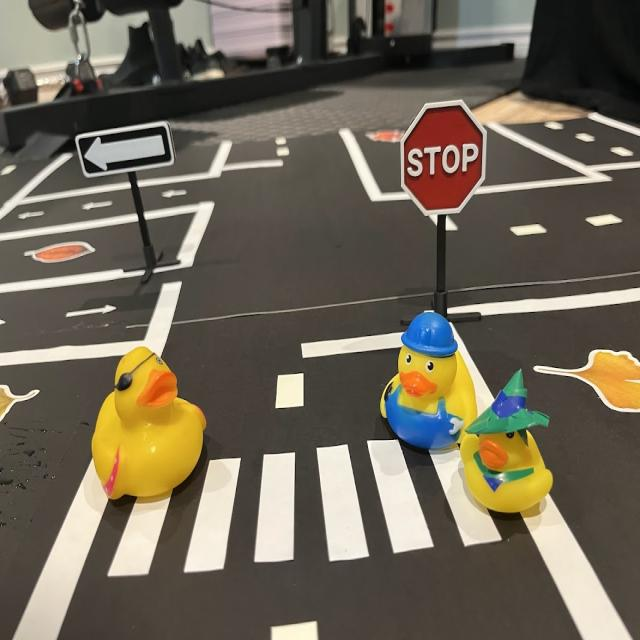duck_regular: (458, 370, 554, 520)
duck_specialty: (92, 347, 208, 504), (381, 312, 479, 455)
road_crosswalk: (104, 430, 508, 582)
road_oneway: (62, 297, 117, 326), (14, 207, 50, 229), (80, 196, 118, 213), (157, 187, 191, 203)
sign_oneway_left: (78, 121, 177, 181)
sign_stop: (402, 101, 488, 226)
